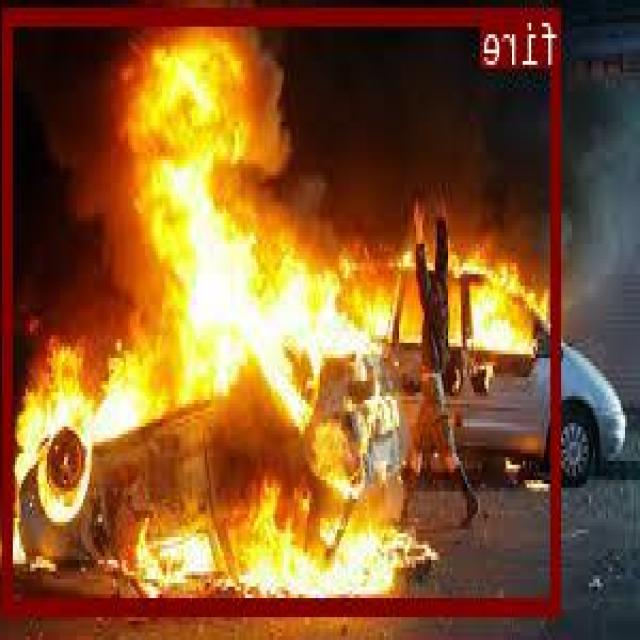fire: (5, 4, 563, 612)
